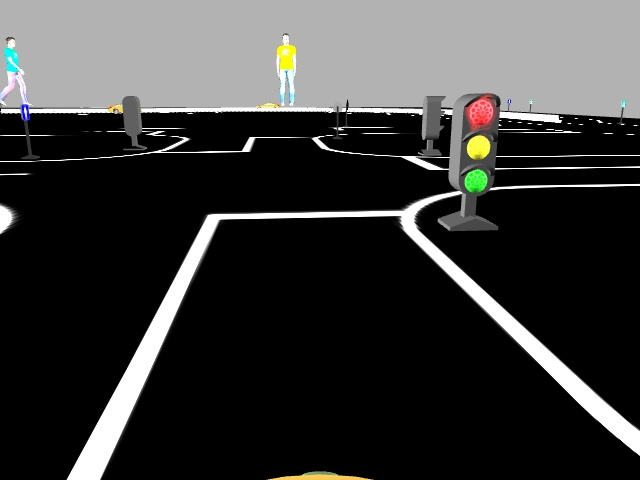TrafficLight: (445, 91, 500, 197)
